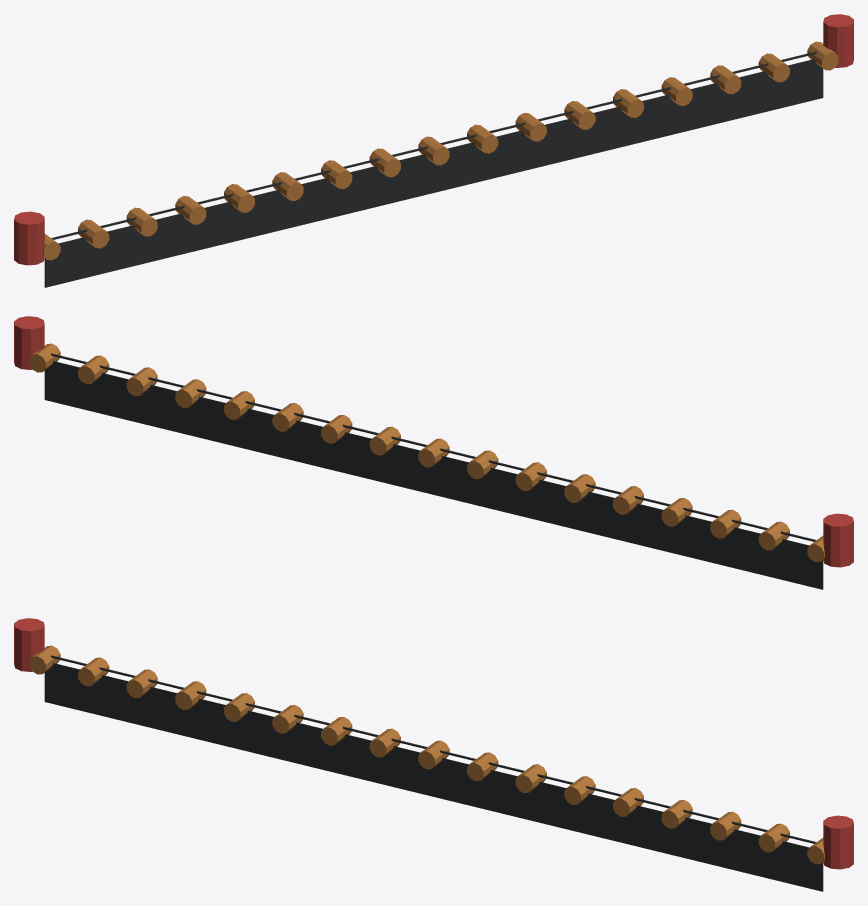
The model's file is a30_boom_net.glb.
3 renders of one model, top to bottom at view 1: azimuth 30°, elevation 25°; view 2: azimuth 150°, elevation 25°; view 3: azimuth 330°, elevation 25°, orthographic.
Parts seen in each view (by area): view 1: body; view 2: body; view 3: body.
Boxes of the visible parts, <box> form: body: <box>14,14,853,287</box>; body: <box>14,316,853,589</box>; body: <box>14,618,853,891</box>.
Bounding box in the file's own units: 1 × 0.0839 × 0.0326.
